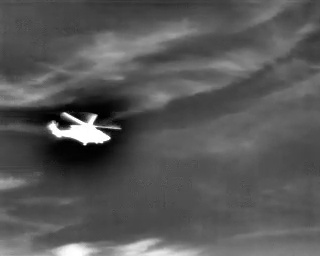HELICOPTER: (45, 106, 125, 154)
